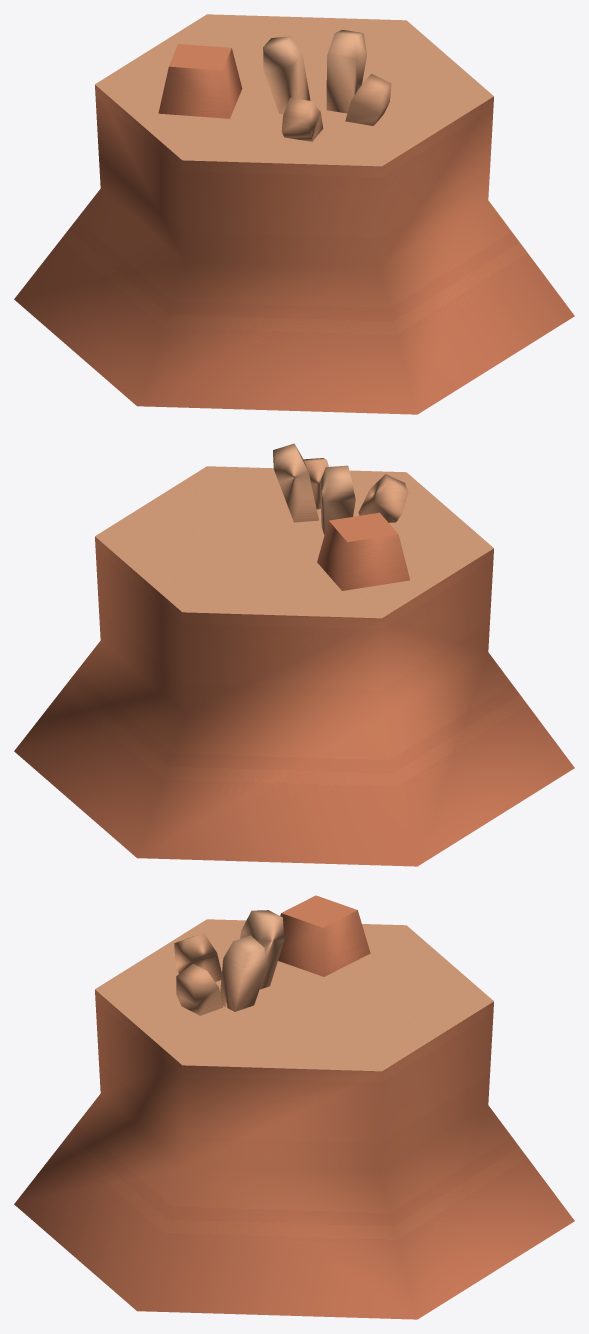
Rendered from rocks-sand-c.007.glb.
3 views of the same model, one above another, from view 1: azimuth 30°, elevation 25°; view 2: azimuth 150°, elevation 25°; view 3: azimuth 270°, elevation 25° (orthographic).
Visible parts, largest first — view 1: rocks-sand-c.007; view 2: rocks-sand-c.007; view 3: rocks-sand-c.007.
Boxes of the visible parts, <box> form: rocks-sand-c.007: <box>14,14,574,414</box>; rocks-sand-c.007: <box>14,443,574,866</box>; rocks-sand-c.007: <box>14,895,574,1319</box>.
Size of the model in its own units: 0.6444 by 0.4026 by 0.7148.
1 material, 1 textured.
